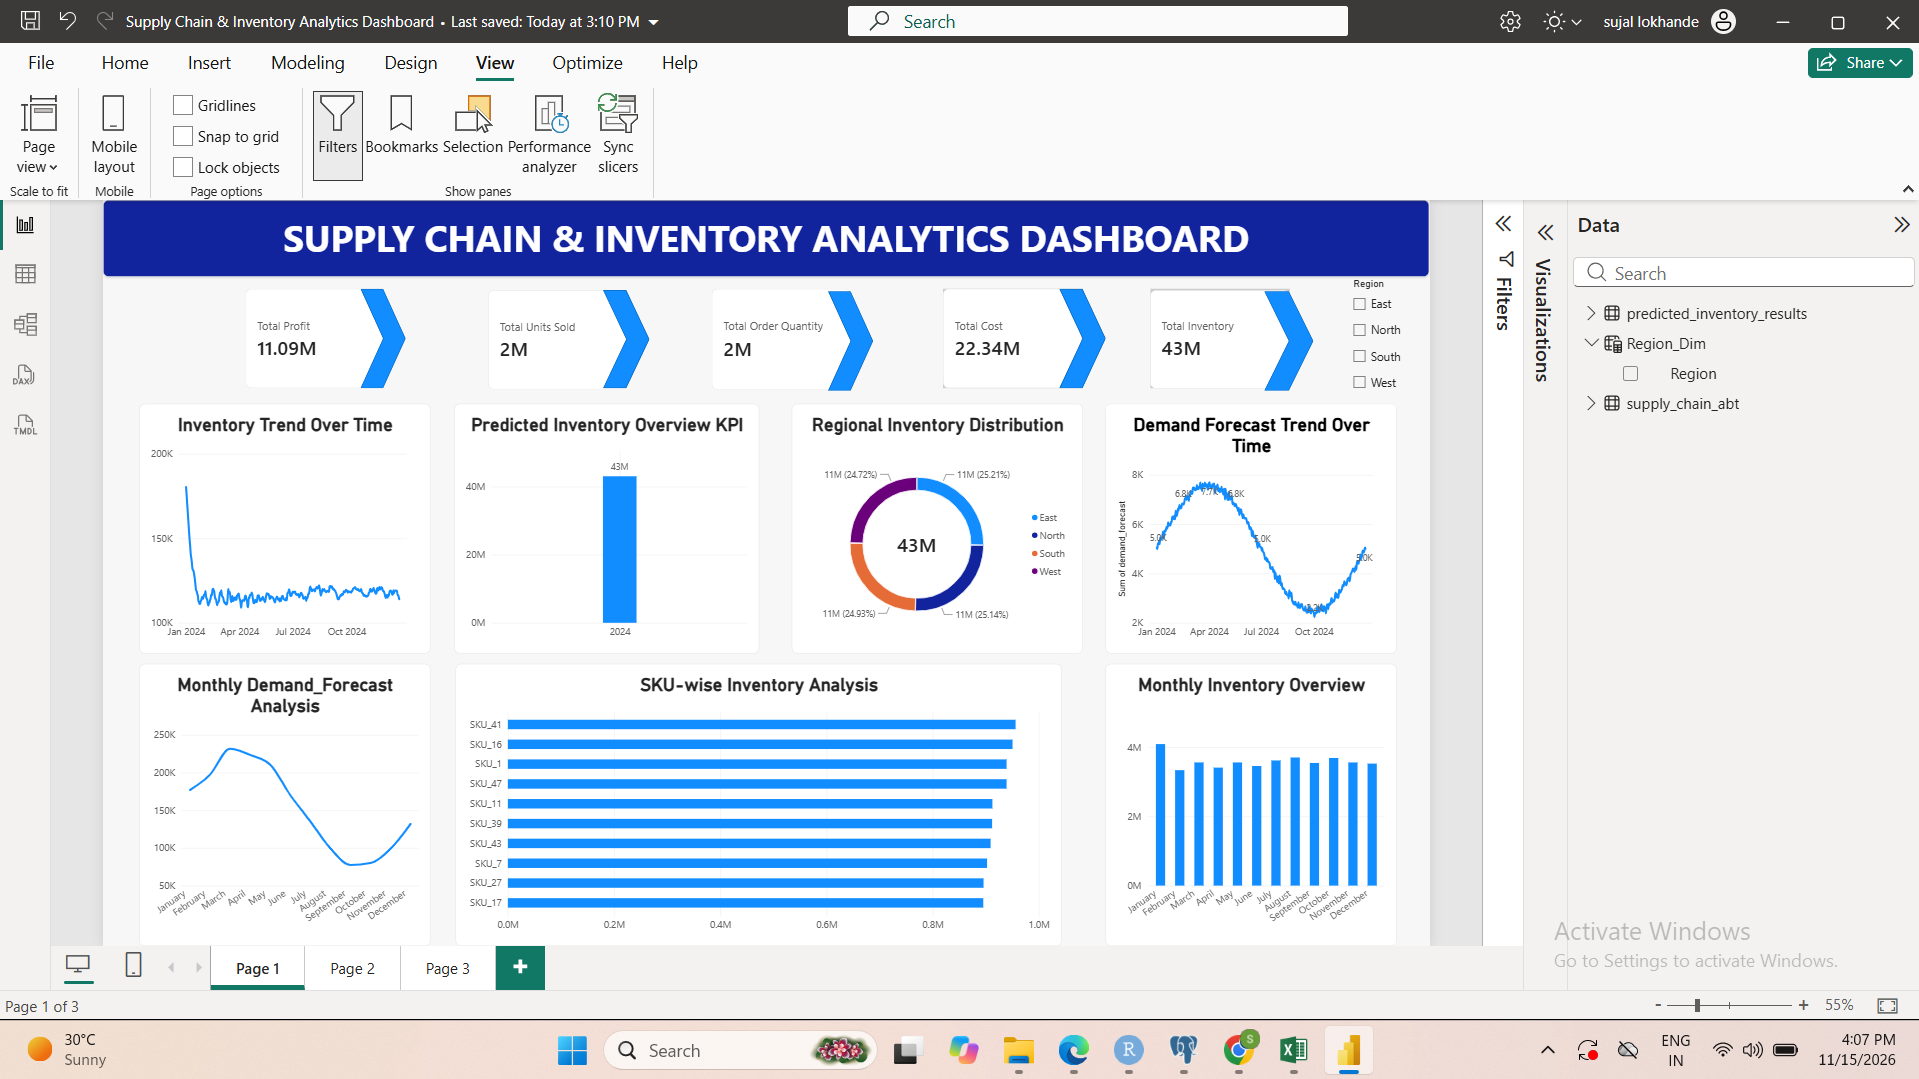

This screenshot's page, from the dashboard's own definition file:
{"tool":"powerbi","page":{"name":"Page 1","canvas":[1920,1080],"ordinal":0},"visuals":[{"type":"cardVisual","title":"Total Inventory","fields":{"Data":["supply_chain_abt.Total Inventory"]},"box":[1516.7,128.8,201.8,144.2],"z":0},{"type":"cardVisual","fields":{"Data":["predicted_inventory_results.Total Units Sold"]},"box":[557.5,130.7,201.8,144.2],"z":1000},{"type":"lineChart","title":"Inventory Trend Over Time","fields":{"Category":["predicted_inventory_results.date"],"Y":["Sum(predicted_inventory_results.inventory_level)"]},"box":[51.9,294.1,421.7,361.9],"z":2000},{"type":"lineChart","title":"Monthly Demand_Forecast Analysis","fields":{"Category":["predicted_inventory_results.date.Variation.Date Hierarchy.Month"],"Y":["Sum(predicted_inventory_results.demand_forecast)"]},"box":[52.5,671.4,421.7,409],"z":3000},{"type":"clusteredColumnChart","title":"Predicted Inventory Overview KPI","fields":{"Category":["predicted_inventory_results.date.Variation.Date Hierarchy.Year","predicted_inventory_results.date.Variation.Date Hierarchy.Quarter","predicted_inventory_results.date.Variation.Date Hierarchy.Month","predicted_inventory_results.date.Variation.Date Hierarchy.Day"],"Y":["predicted_inventory_results.Predicted Inventory KPI"]},"box":[509.4,294.1,441.6,361.9],"z":4000},{"type":"clusteredColumnChart","title":"Monthly Inventory Overview","fields":{"Category":["predicted_inventory_results.date.Variation.Date Hierarchy.Month"],"Y":["Sum(predicted_inventory_results.inventory_level)"]},"box":[1451.3,670.9,421.7,409],"z":5000},{"type":"lineChart","title":"Demand Forecast Trend Over Time","fields":{"Category":["supply_chain_abt.date"],"Y":["Sum(supply_chain_abt.demand_forecast)"]},"box":[1451.3,294.1,421.7,361.9],"z":6000},{"type":"textbox","box":[0,0,1920.4,111.5],"z":7000},{"type":"clusteredBarChart","title":"SKU-wise Inventory Analysis","fields":{"Category":["supply_chain_abt.sku_id"],"Y":["Sum(supply_chain_abt.inventory_level)"]},"box":[510.3,671.4,877.7,409],"z":8000},{"type":"donutChart","title":"Regional Inventory Distribution","fields":{"Category":["supply_chain_abt.region"],"Y":["Sum(supply_chain_abt.inventory_level)"]},"box":[997.7,294.1,421.7,361.9],"z":9000},{"type":"cardVisual","fields":{"Data":["predicted_inventory_results.Total Cost"]},"box":[1216.8,128.8,201.8,144.2],"z":10000},{"type":"cardVisual","fields":{"Data":["predicted_inventory_results.Total Profit"]},"box":[205.7,128.8,199.9,144.2],"z":11000},{"type":"cardVisual","fields":{"Data":["predicted_inventory_results.Total Order Quantity"]},"box":[880.4,128.8,201.8,146.1],"z":12000},{"type":"shape","box":[724.7,130.7,67.3,142.3],"z":12002},{"type":"shape","box":[372.9,128.8,65.4,144.2],"z":12003},{"type":"shape","box":[1049.6,132.6,65.4,144.2],"z":12004},{"type":"shape","box":[1384.1,128.8,67.3,144.2],"z":12005},{"type":"shape","box":[1682,132.6,71.1,144.2],"z":12006},{"type":"slicer","fields":{"Values":["Region_Dim.Region"]},"box":[1803.1,111.5,117.3,182.6],"z":12007}]}

Visuals, with their boxes on the page's 1920x1080 design canvas (x1, y1, x2, y2). These are canvas units, not pixel positions in the 1919x1079 screenshot, which may show the page scaled, cropped or inside an application window:
"Total Inventory" cardVisual: {"x1": 1517, "y1": 129, "x2": 1718, "y2": 273}
cardVisual - predicted_inventory_results.Total Units Sold: {"x1": 558, "y1": 131, "x2": 759, "y2": 275}
"Inventory Trend Over Time" lineChart: {"x1": 52, "y1": 294, "x2": 474, "y2": 656}
"Monthly Demand_Forecast Analysis" lineChart: {"x1": 52, "y1": 671, "x2": 474, "y2": 1080}
"Predicted Inventory Overview KPI" clusteredColumnChart: {"x1": 509, "y1": 294, "x2": 951, "y2": 656}
"Monthly Inventory Overview" clusteredColumnChart: {"x1": 1451, "y1": 671, "x2": 1873, "y2": 1080}
"Demand Forecast Trend Over Time" lineChart: {"x1": 1451, "y1": 294, "x2": 1873, "y2": 656}
textbox: {"x1": 0, "y1": 0, "x2": 1920, "y2": 112}
"SKU-wise Inventory Analysis" clusteredBarChart: {"x1": 510, "y1": 671, "x2": 1388, "y2": 1080}
"Regional Inventory Distribution" donutChart: {"x1": 998, "y1": 294, "x2": 1419, "y2": 656}
cardVisual - predicted_inventory_results.Total Cost: {"x1": 1217, "y1": 129, "x2": 1419, "y2": 273}
cardVisual - predicted_inventory_results.Total Profit: {"x1": 206, "y1": 129, "x2": 406, "y2": 273}
cardVisual - predicted_inventory_results.Total Order Quantity: {"x1": 880, "y1": 129, "x2": 1082, "y2": 275}
shape: {"x1": 725, "y1": 131, "x2": 792, "y2": 273}
shape: {"x1": 373, "y1": 129, "x2": 438, "y2": 273}
shape: {"x1": 1050, "y1": 133, "x2": 1115, "y2": 277}
shape: {"x1": 1384, "y1": 129, "x2": 1451, "y2": 273}
shape: {"x1": 1682, "y1": 133, "x2": 1753, "y2": 277}
slicer - Region_Dim.Region: {"x1": 1803, "y1": 112, "x2": 1920, "y2": 294}
